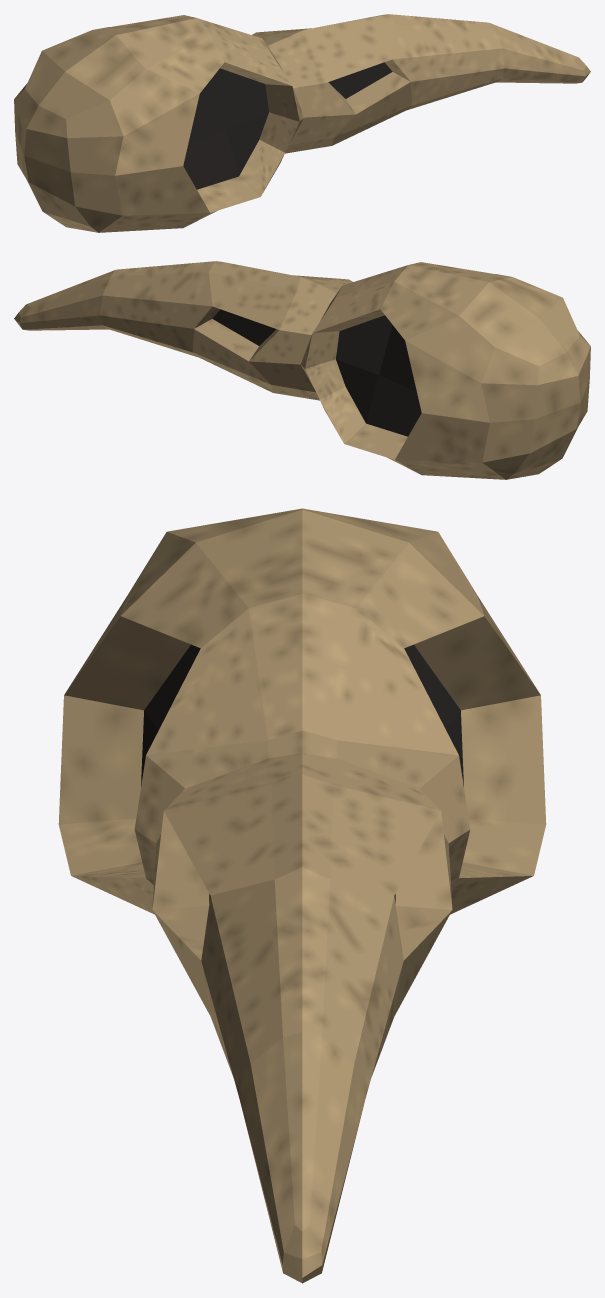
File: Scull_Bird.fbx
3 views of the same model, one above another, from view 1: azimuth 30°, elevation 25°; view 2: azimuth 150°, elevation 25°; view 3: azimuth 270°, elevation 25° (orthographic). The views are drawn at different scales.
Parts seen in each view (by area): view 1: Cube.006; view 2: Cube.006; view 3: Cube.006.
Part boxes in pixels (x1,y1,x2,y2): Cube.006: [14, 14, 590, 232]; Cube.006: [14, 261, 590, 479]; Cube.006: [58, 508, 546, 1283].
Bounding box in the file's own units: 186 × 56.61 × 69.45.
